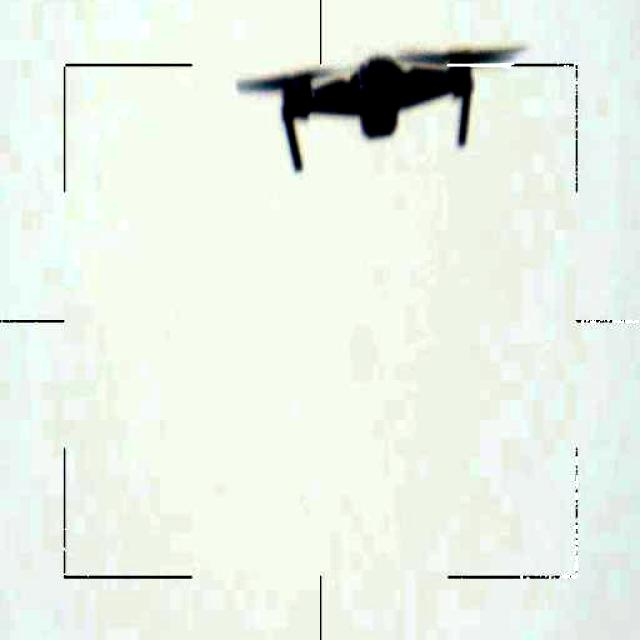bird: (229, 40, 526, 178)
